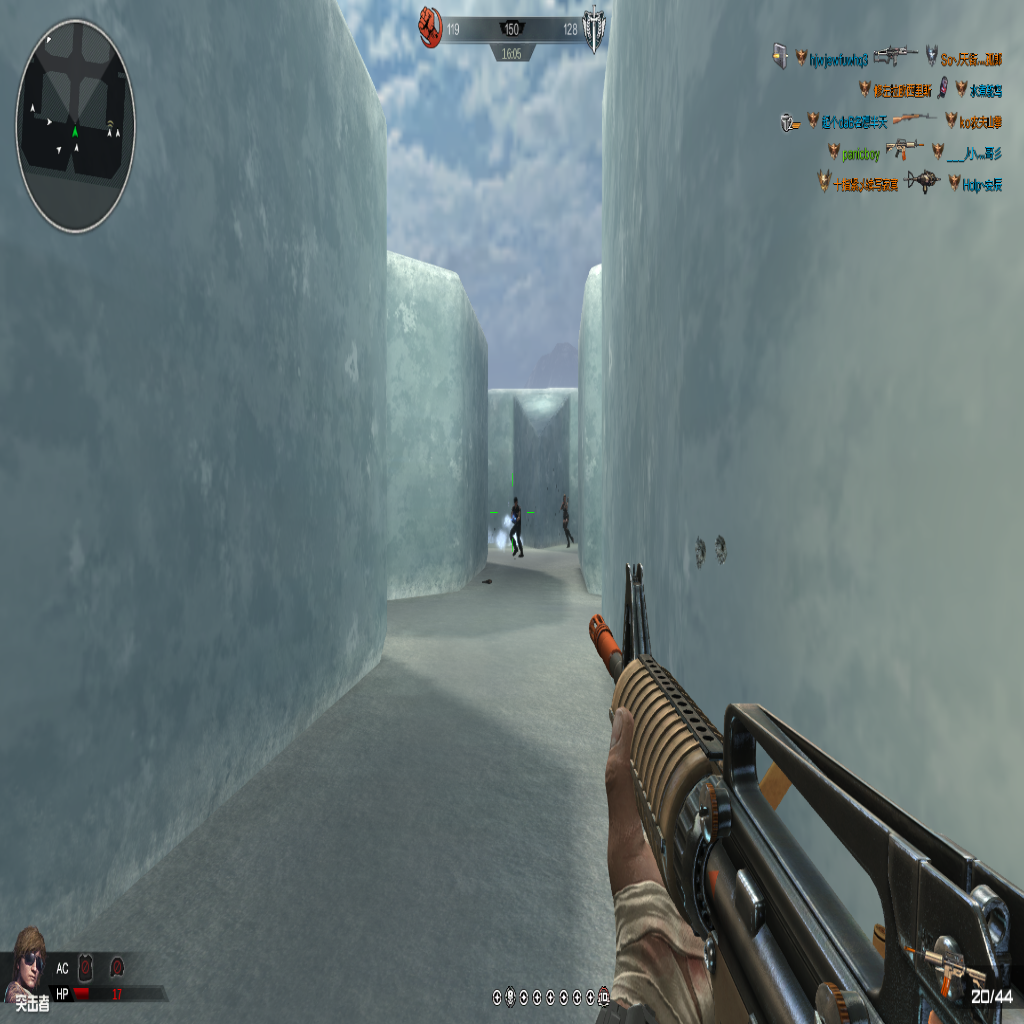ct: (508, 499, 524, 558), (559, 491, 573, 549)
